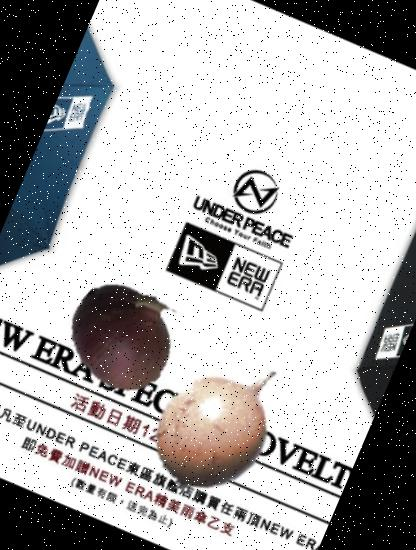Granadilla: (124, 328, 320, 522)
Onion: (50, 263, 196, 409)
